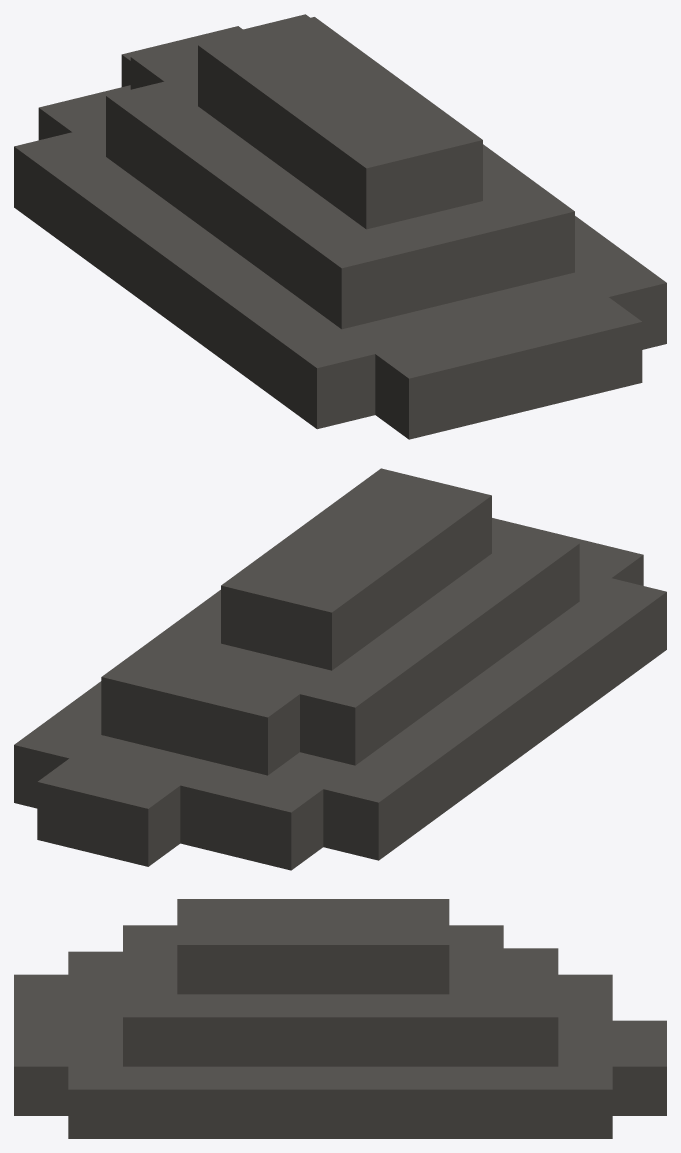
File: stone_dark.obj
The picture shows the model from 3 angles, top to bottom: view 1: azimuth 30°, elevation 25°; view 2: azimuth 150°, elevation 25°; view 3: azimuth 270°, elevation 25°; orthographic projection. The views are drawn at different scales.
Size of the model in its own units: 0.6 by 0.3 by 1.2.
Materials: 1 (1 with a texture image).
